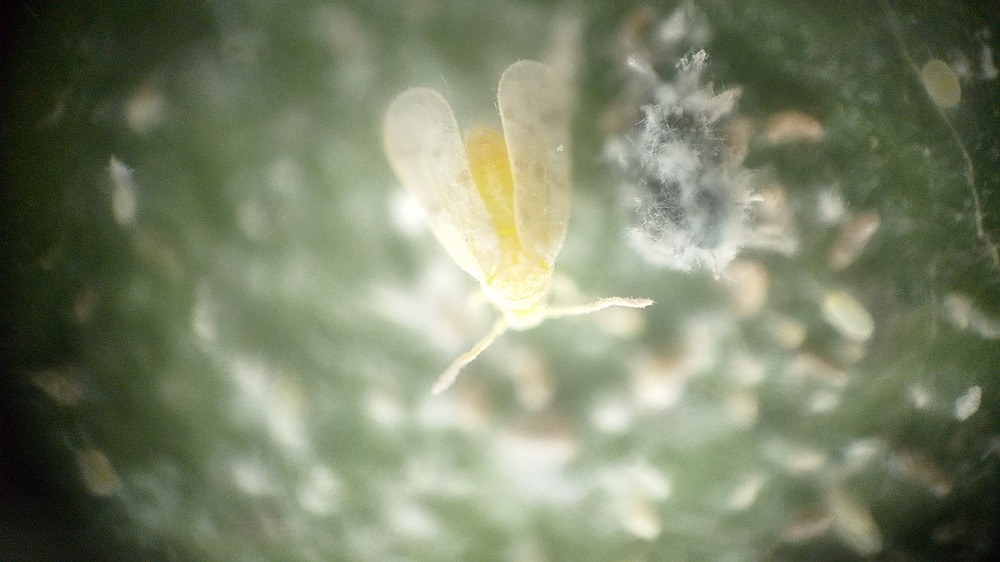Mosca Blanca: (353, 60, 691, 411)
